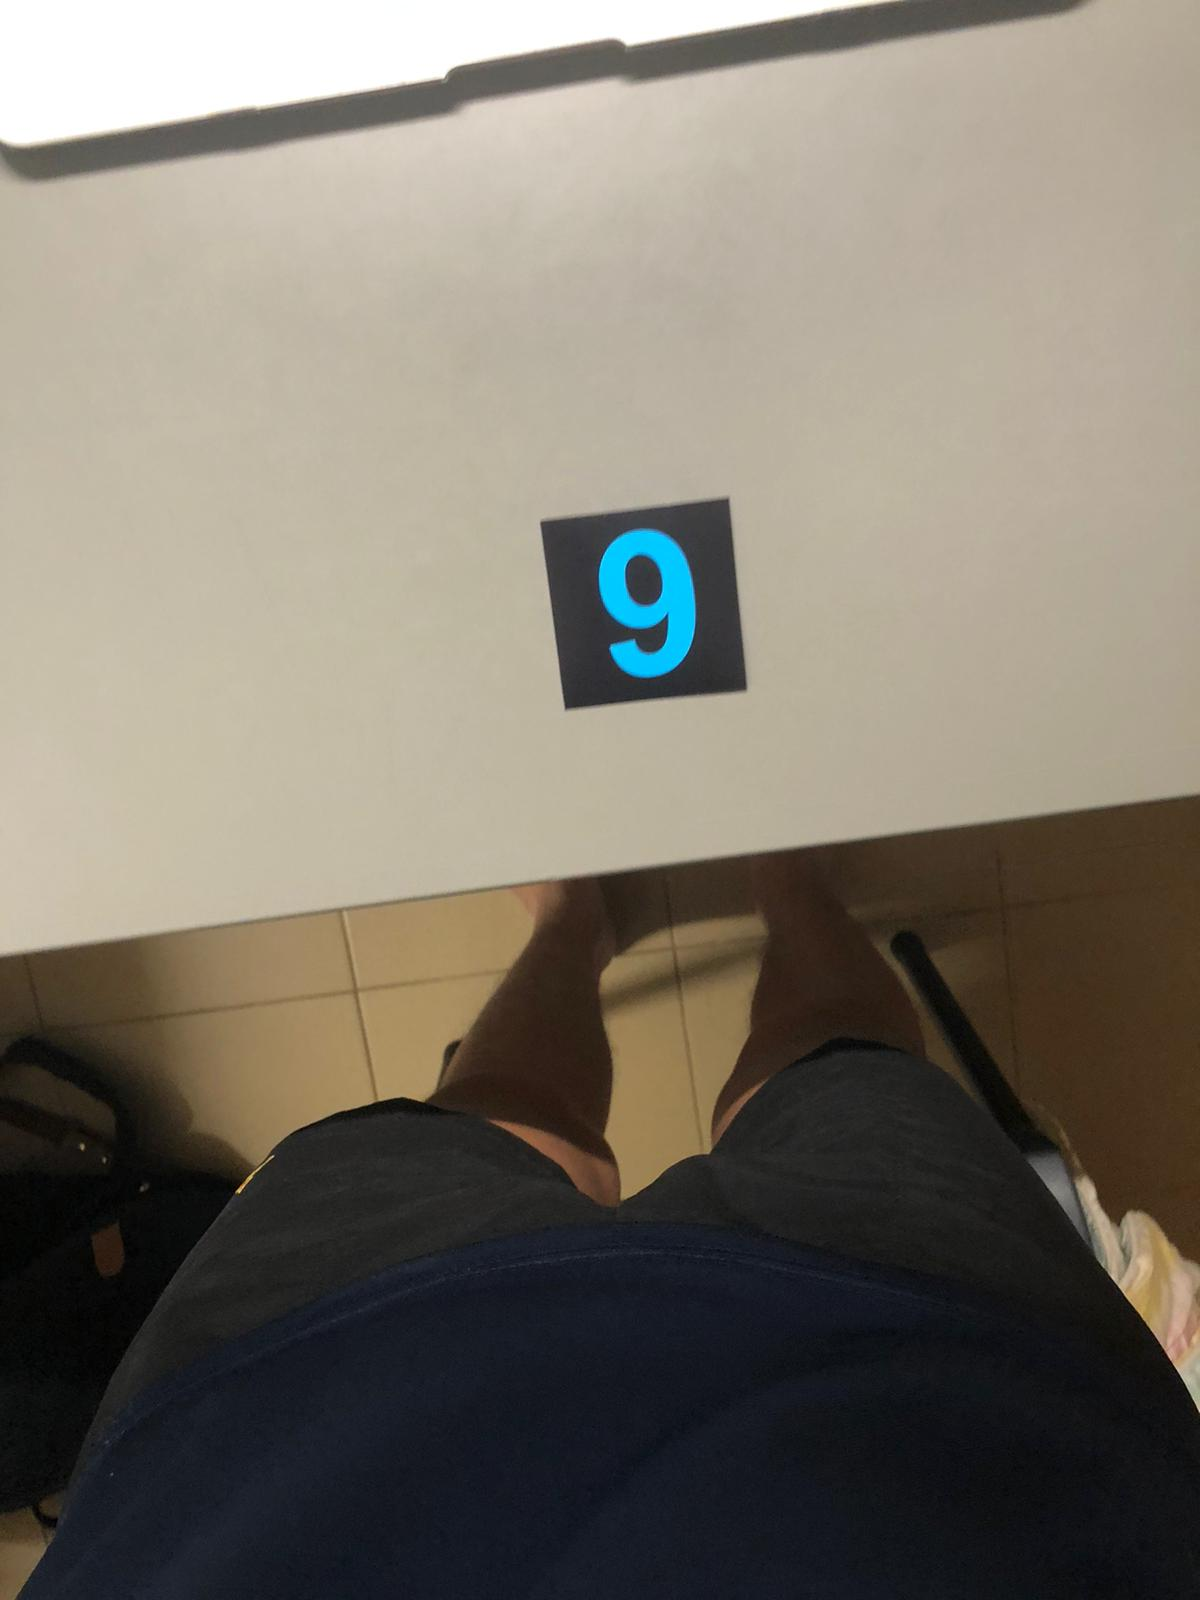Number 9: (550, 515, 735, 695)
